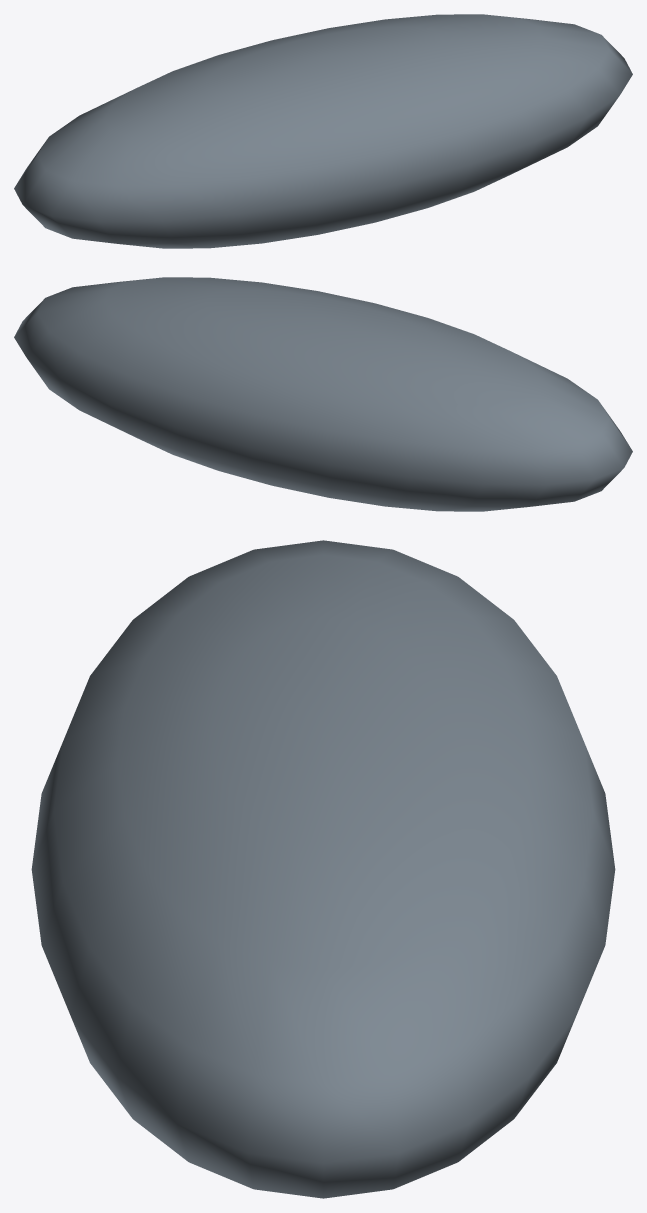
File: SM_FE_Hill3.fbx
3 renders of one model, top to bottom at view 1: azimuth 30°, elevation 25°; view 2: azimuth 150°, elevation 25°; view 3: azimuth 270°, elevation 25°, orthographic. The views are drawn at different scales.
Visible parts, largest first — view 1: SM_FE_Hill3; view 2: SM_FE_Hill3; view 3: SM_FE_Hill3.
Boxes of the visible parts, bbox=[...] form: SM_FE_Hill3: bbox=[14, 14, 632, 248]; SM_FE_Hill3: bbox=[14, 277, 632, 511]; SM_FE_Hill3: bbox=[31, 540, 615, 1198].
Bounding box in the file's own units: 10000 × 4200 × 2400.
